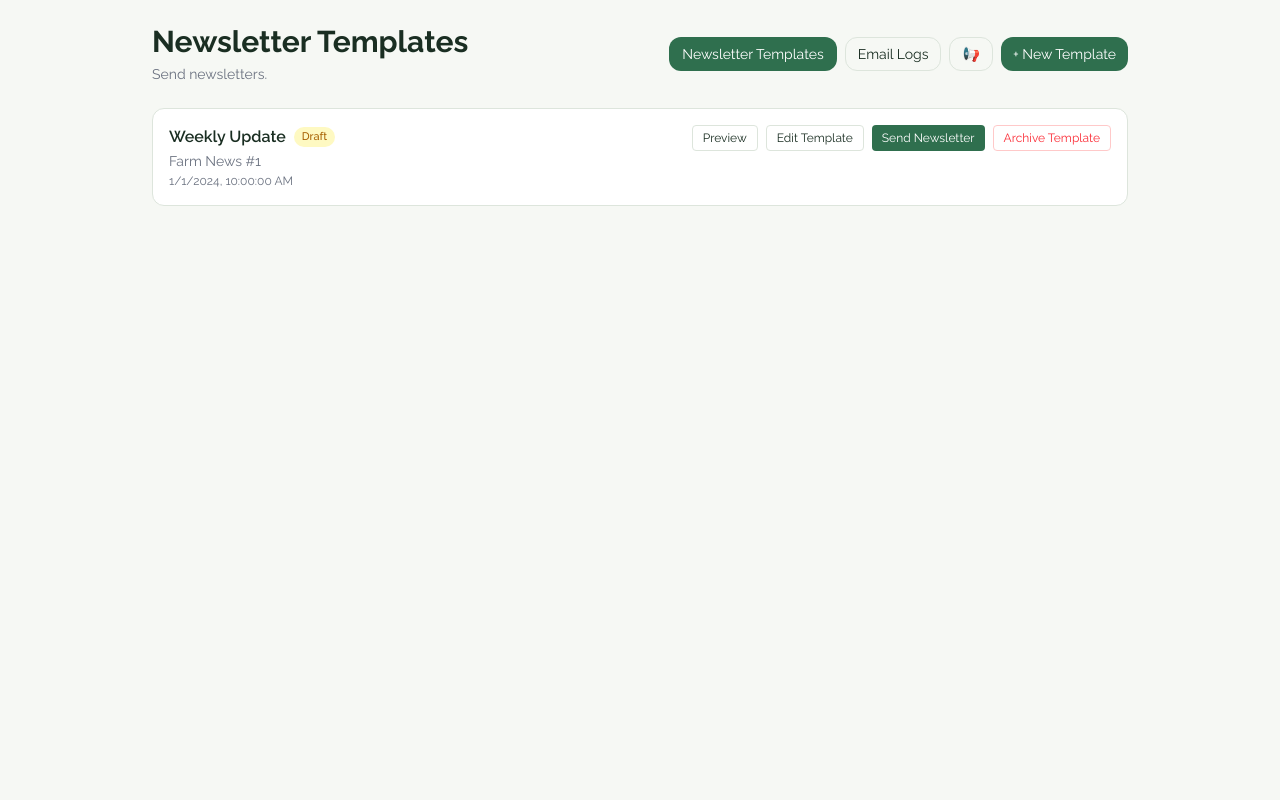
Test: NewsletterPage (template UI) › shows send modal when Send Newsletter is clicked
Click the button "Send Newsletter".
click(928, 138)  # box [872, 125, 984, 151]
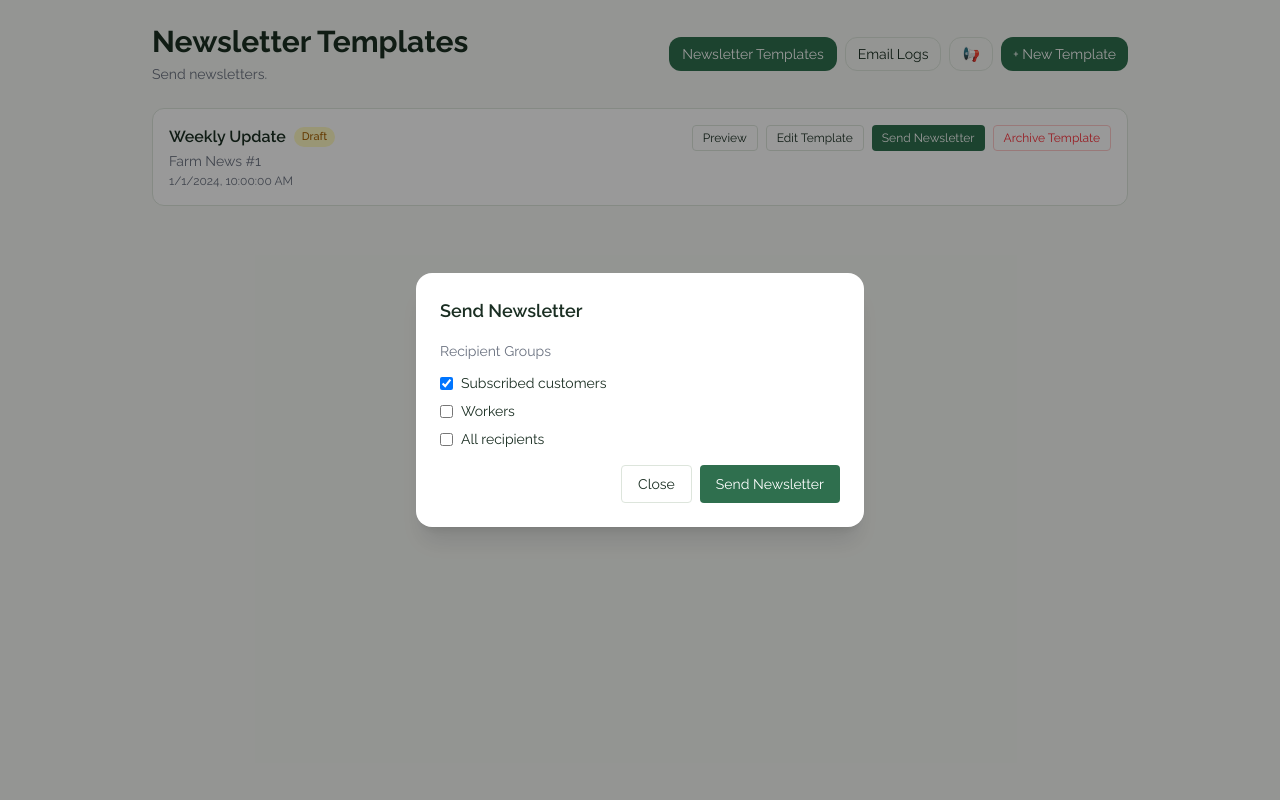
expect the element with test id "send-modal" is shown: met
